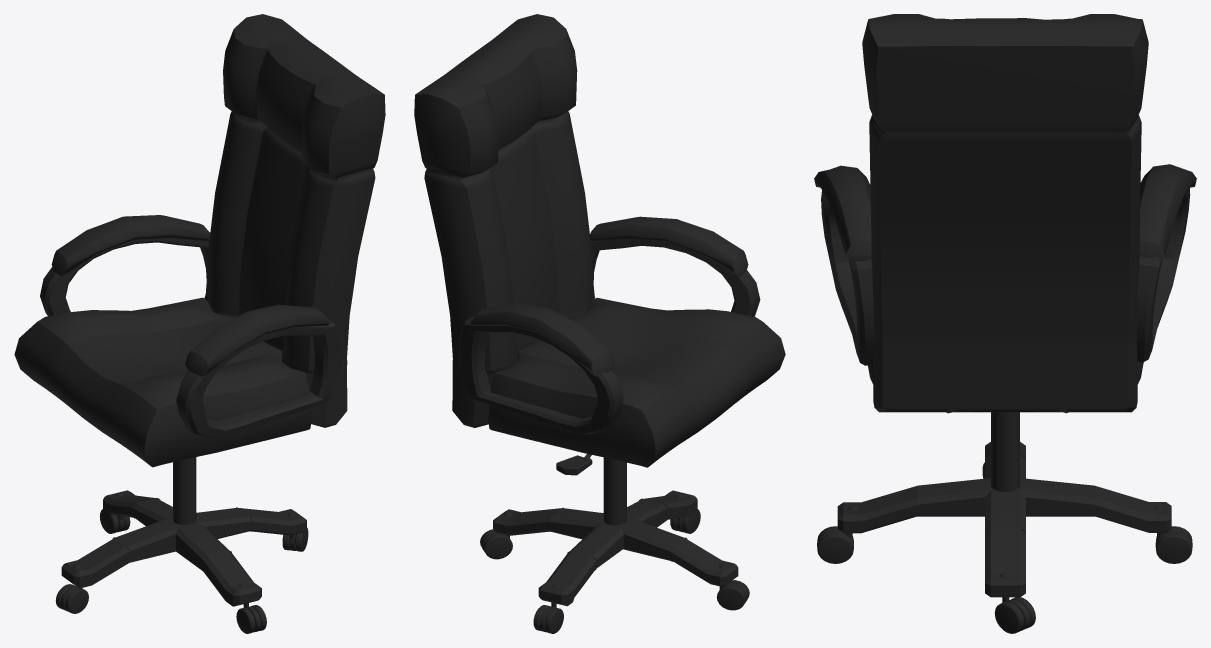
File: Desk_Chair.fbx
3 renders of one model, left to right at view 1: azimuth 30°, elevation 25°; view 2: azimuth 150°, elevation 25°; view 3: azimuth 270°, elevation 25°, orthographic. The views are drawn at different scales.
Visible parts, largest first — view 1: pasted__polySurface30; view 2: pasted__polySurface30; view 3: pasted__polySurface30.
Boxes of the visible parts, box(x1,y1,x2,y2) form: pasted__polySurface30: box(14, 14, 385, 633); pasted__polySurface30: box(414, 14, 785, 633); pasted__polySurface30: box(814, 14, 1196, 633).
Bounding box in the file's own units: 1.34 × 2.27 × 1.29.
